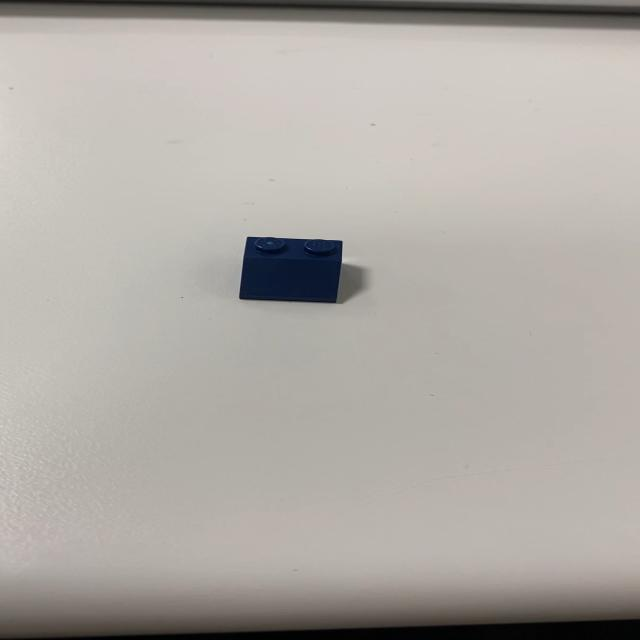P2x2x1: (237, 235, 343, 303)
